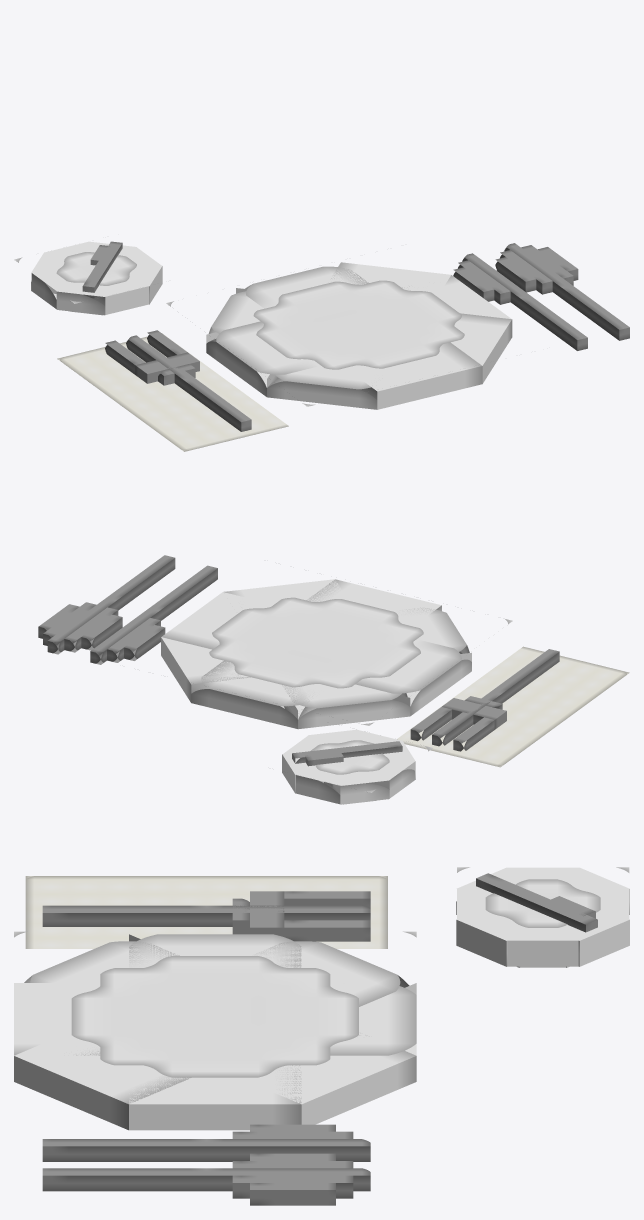
The model's file is silverware.obj.
The picture shows the model from 3 angles, top to bottom: view 1: azimuth 30°, elevation 25°; view 2: azimuth 150°, elevation 25°; view 3: azimuth 270°, elevation 25°; orthographic projection. The views are drawn at different scales.
Visible parts, largest first — view 1: plate1, plate1B, Napkin, fork1, spoon1, Knife1, plate1C, Bplate1, fork2, BKnife1, spoon5, Knife2 (+3 smaller); view 2: plate1, plate1B, Napkin, fork1, Knife1, spoon1, Bplate1, plate1C, BKnife1, fork2, spoon5, Knife3 (+5 smaller); view 3: plate1, plate1B, Napkin, Knife1, fork1, spoon1, Bplate1, plate1C, BKnife1, spoon4, fork5, spoon3 (+7 smaller).
Boxes of the visible parts, x1=… form: plate1: x1=31, y1=241, x2=512, y2=409; plate1B: x1=166, y1=280, x2=464, y2=406; Napkin: x1=57, y1=333, x2=288, y2=451; fork1: x1=126, y1=335, x2=251, y2=431; spoon1: x1=504, y1=243, x2=629, y2=340; Knife1: x1=462, y1=253, x2=587, y2=350; plate1C: x1=14, y1=252, x2=136, y2=303; Bplate1: x1=31, y1=247, x2=161, y2=308; fork2: x1=135, y1=352, x2=199, y2=383; BKnife1: x1=82, y1=241, x2=122, y2=298; spoon5: x1=495, y1=257, x2=536, y2=292; Knife2: x1=458, y1=260, x2=510, y2=304; plate1: x1=161, y1=579, x2=471, y2=804; plate1B: x1=209, y1=597, x2=512, y2=725; Napkin: x1=397, y1=646, x2=629, y2=767; fork1: x1=432, y1=649, x2=559, y2=746; Knife1: x1=90, y1=565, x2=217, y2=664; spoon1: x1=47, y1=555, x2=175, y2=654; Bplate1: x1=283, y1=735, x2=414, y2=798; plate1C: x1=310, y1=740, x2=432, y2=792; BKnife1: x1=292, y1=741, x2=402, y2=763; fork2: x1=442, y1=698, x2=506, y2=729; spoon5: x1=81, y1=614, x2=122, y2=650; Knife3: x1=124, y1=625, x2=165, y2=660; plate1: x1=14, y1=867, x2=629, y2=1130; plate1B: x1=14, y1=931, x2=416, y2=1077; Napkin: x1=25, y1=876, x2=387, y2=948; Knife1: x1=42, y1=1139, x2=370, y2=1161; fork1: x1=42, y1=905, x2=370, y2=926; spoon1: x1=42, y1=1168, x2=370, y2=1191; Bplate1: x1=507, y1=867, x2=578, y2=966; plate1C: x1=457, y1=867, x2=629, y2=927; BKnife1: x1=476, y1=873, x2=597, y2=932; spoon4: x1=250, y1=1183, x2=335, y2=1205; fork5: x1=284, y1=920, x2=370, y2=941; spoon3: x1=232, y1=1175, x2=353, y2=1198.
Bounding box in the file's own units: 0.8438 × 0.3375 × 0.6694.
